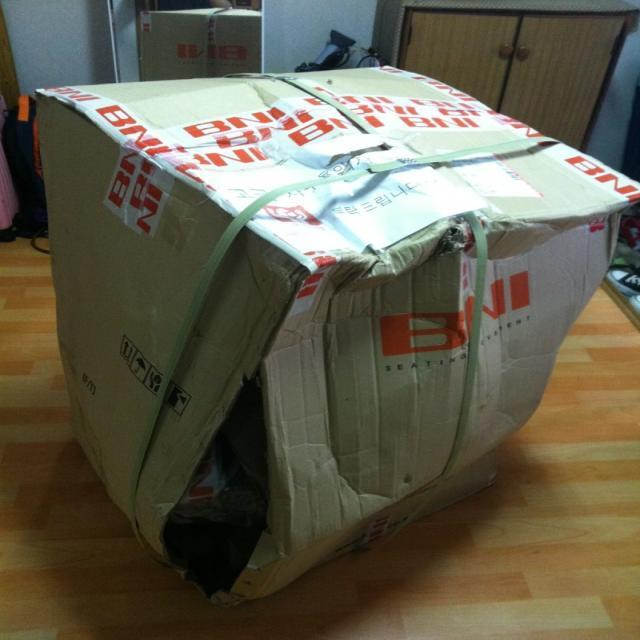damaged: (166, 362, 288, 597)
